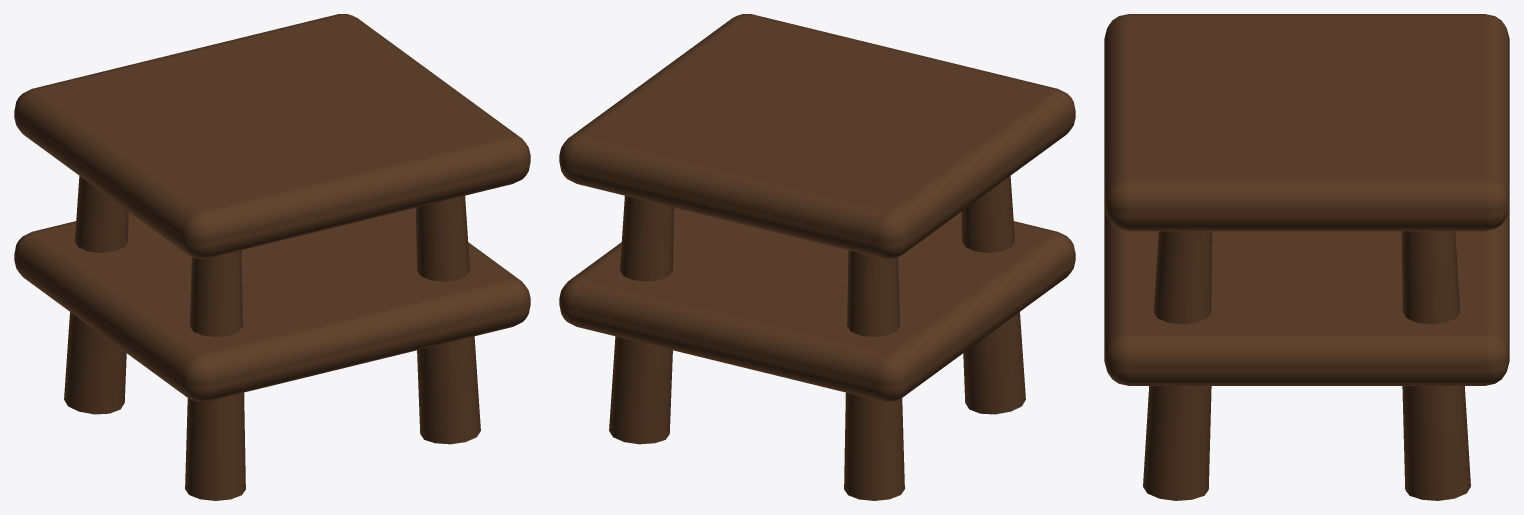
The model's file is scetis-scaunel.glb.
The picture shows the model from 3 angles, left to right: view 1: azimuth 30°, elevation 25°; view 2: azimuth 150°, elevation 25°; view 3: azimuth 270°, elevation 25°; orthographic projection. The views are drawn at different scales.
Visible parts, largest first — view 1: basket, low; view 2: basket, low; view 3: basket, low.
Part boxes in pixels (<box>): basket: <box>14,14,530,500</box>; low: <box>14,208,530,493</box>; basket: <box>559,14,1075,500</box>; low: <box>559,208,1075,493</box>; basket: <box>1104,14,1509,500</box>; low: <box>1104,207,1509,500</box>.
Size of the model in its own units: 1.09 by 0.919 by 1.02.
